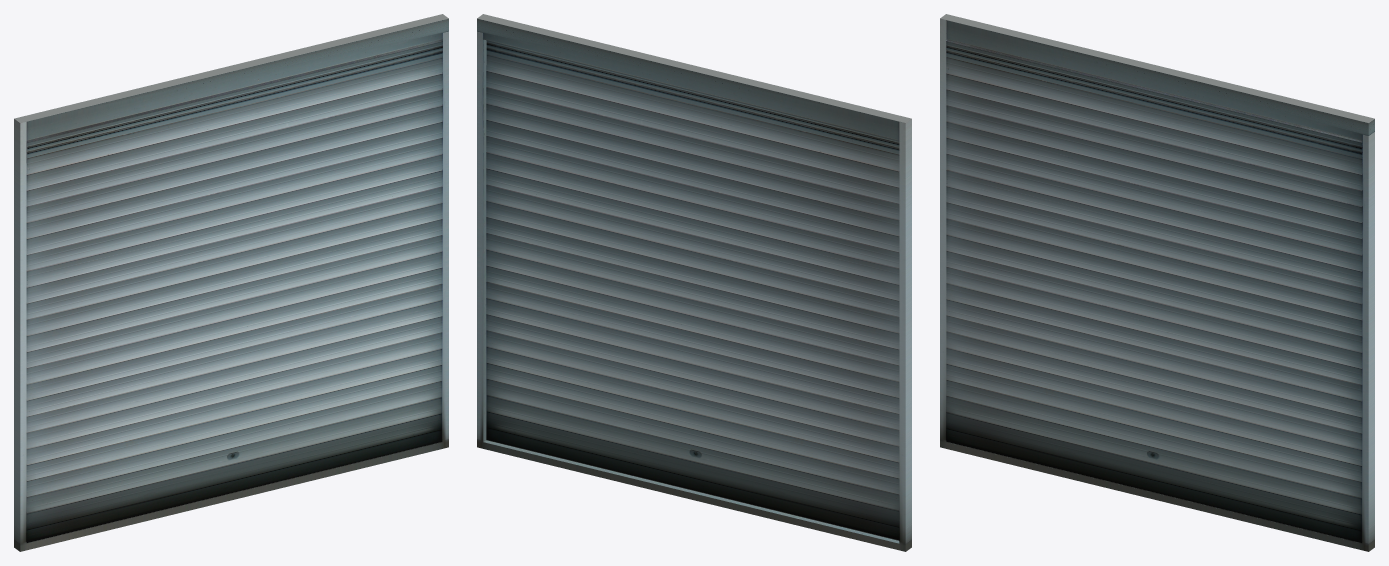
Rendered from ending_door.glb.
The picture shows the model from 3 angles, left to right: view 1: azimuth 30°, elevation 25°; view 2: azimuth 150°, elevation 25°; view 3: azimuth 330°, elevation 25°; orthographic projection.
Visible parts, largest first — view 1: Door.001, Frame; view 2: Door.001, Frame; view 3: Door.001, Frame.
Part boxes in pixels (left/top/right/bottom): Door.001: left=26, top=40, right=442, bottom=543; Frame: left=14, top=14, right=448, bottom=551; Door.001: left=486, top=40, right=899, bottom=540; Frame: left=477, top=14, right=911, bottom=551; Door.001: left=946, top=40, right=1362, bottom=543; Frame: left=940, top=14, right=1374, bottom=551.
Bounding box in the file's own units: 2.05 × 1.96 × 0.0537.
1 material, 1 textured.
